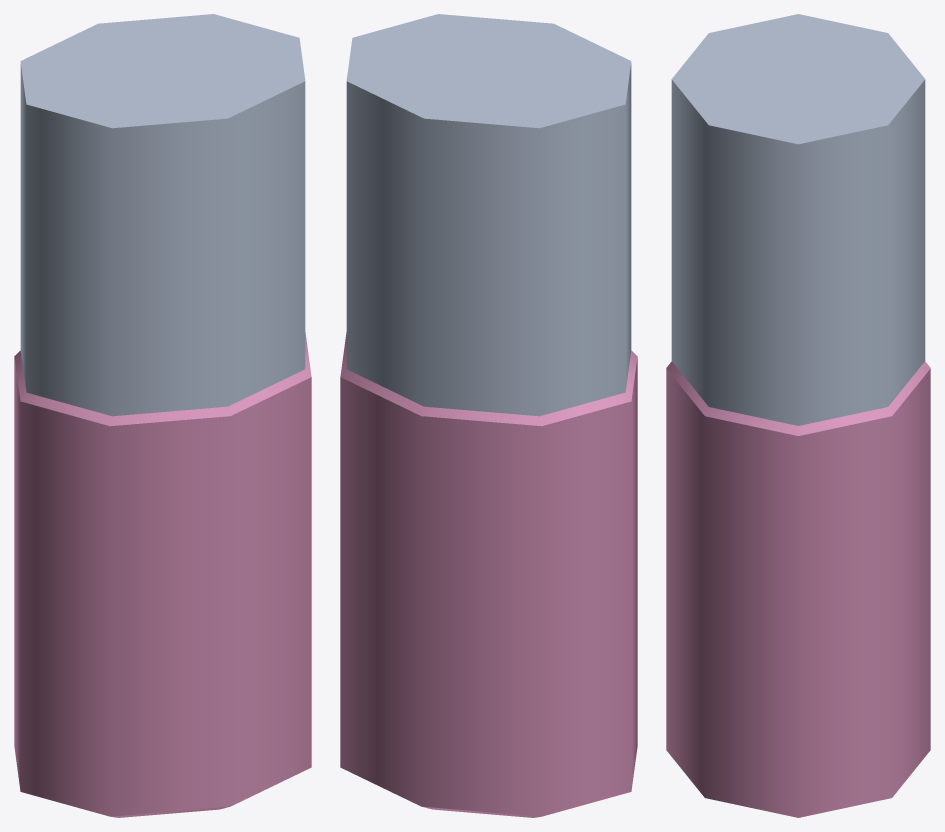
The model's file is Bottle Nail Polish.glb.
3 renders of one model, left to right at view 1: azimuth 30°, elevation 25°; view 2: azimuth 150°, elevation 25°; view 3: azimuth 270°, elevation 25°, orthographic. The views are drawn at different scales.
Parts seen in each view (by area): view 1: bottle_nail_polish.001, bottle_nail_polish_bottle.001; view 2: bottle_nail_polish.001, bottle_nail_polish_bottle.001; view 3: bottle_nail_polish.001, bottle_nail_polish_bottle.001.
Part boxes in pixels (x1,y1,x2,y2): bottle_nail_polish.001: [14, 332, 311, 817]; bottle_nail_polish_bottle.001: [20, 14, 305, 416]; bottle_nail_polish.001: [340, 332, 637, 817]; bottle_nail_polish_bottle.001: [346, 14, 631, 416]; bottle_nail_polish.001: [666, 361, 930, 817]; bottle_nail_polish_bottle.001: [671, 14, 925, 425].
Size of the model in its own units: 5.98 by 13.98 by 4.92.
2 materials, 2 textured.
